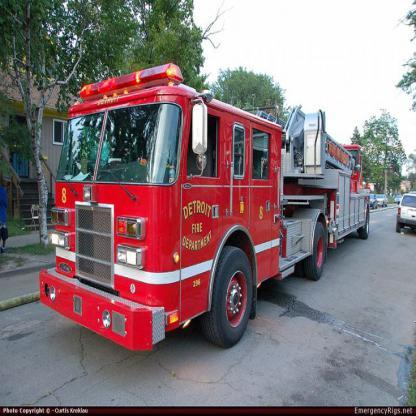fire-truck: (26, 66, 397, 367)
